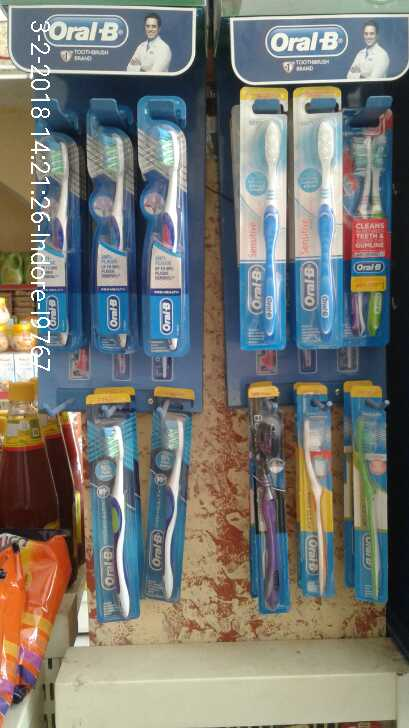oralb: (241, 104, 294, 353), (294, 102, 347, 351), (340, 100, 393, 349), (87, 402, 137, 621), (90, 104, 134, 351), (144, 102, 188, 349), (146, 390, 190, 612), (42, 136, 84, 360), (351, 387, 391, 606), (301, 385, 341, 604), (244, 387, 284, 606)
